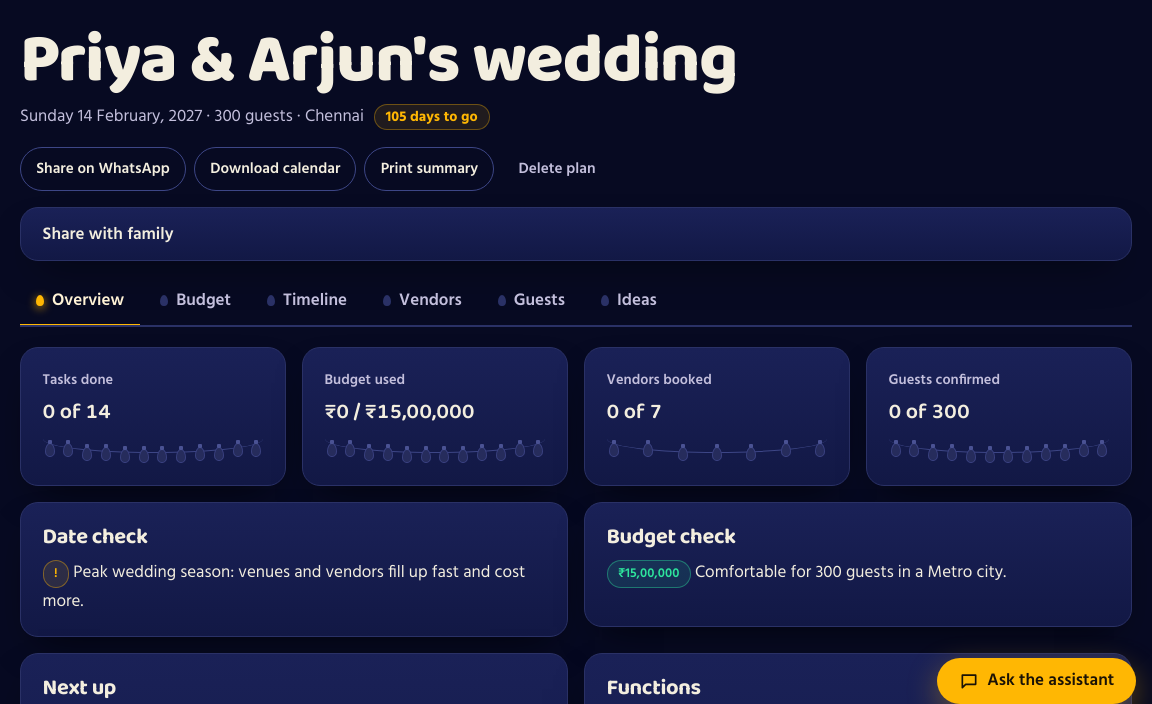
Scenario: Ideas tab › shows a network message when the request cannot be sent
Click the tab "Ideas" at (629,302), box [585, 278, 673, 327]
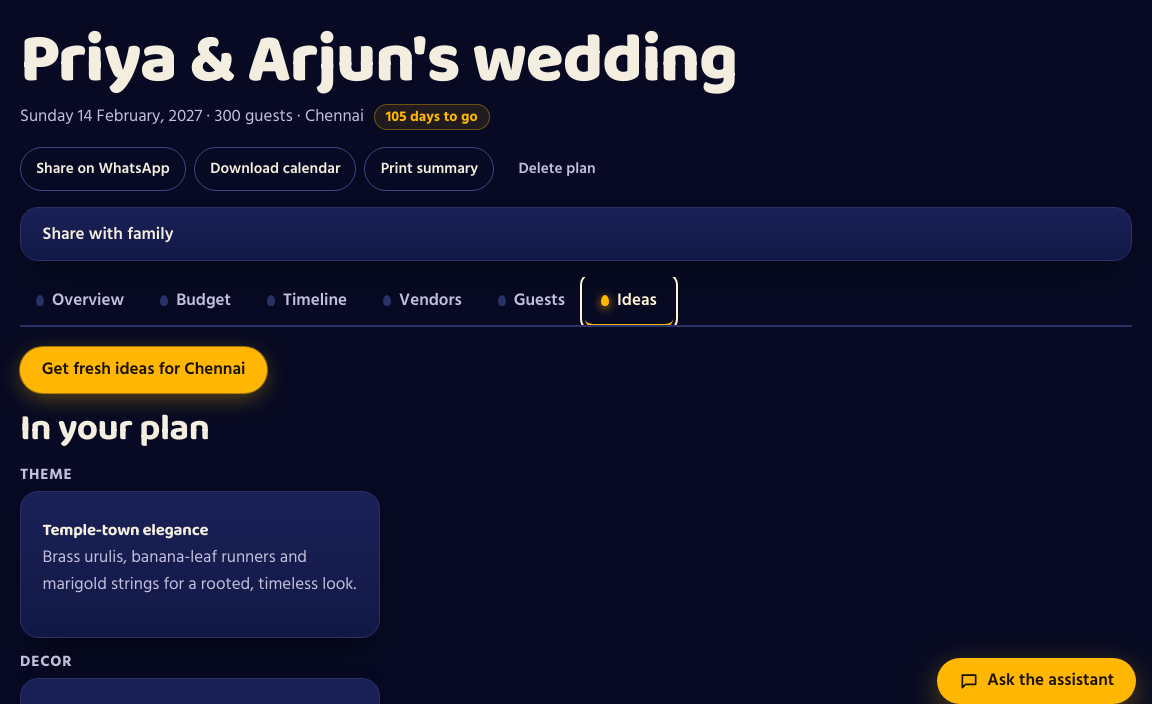
Click the button "Get fresh ideas for Chennai" at (144,370), box [20, 347, 267, 393]
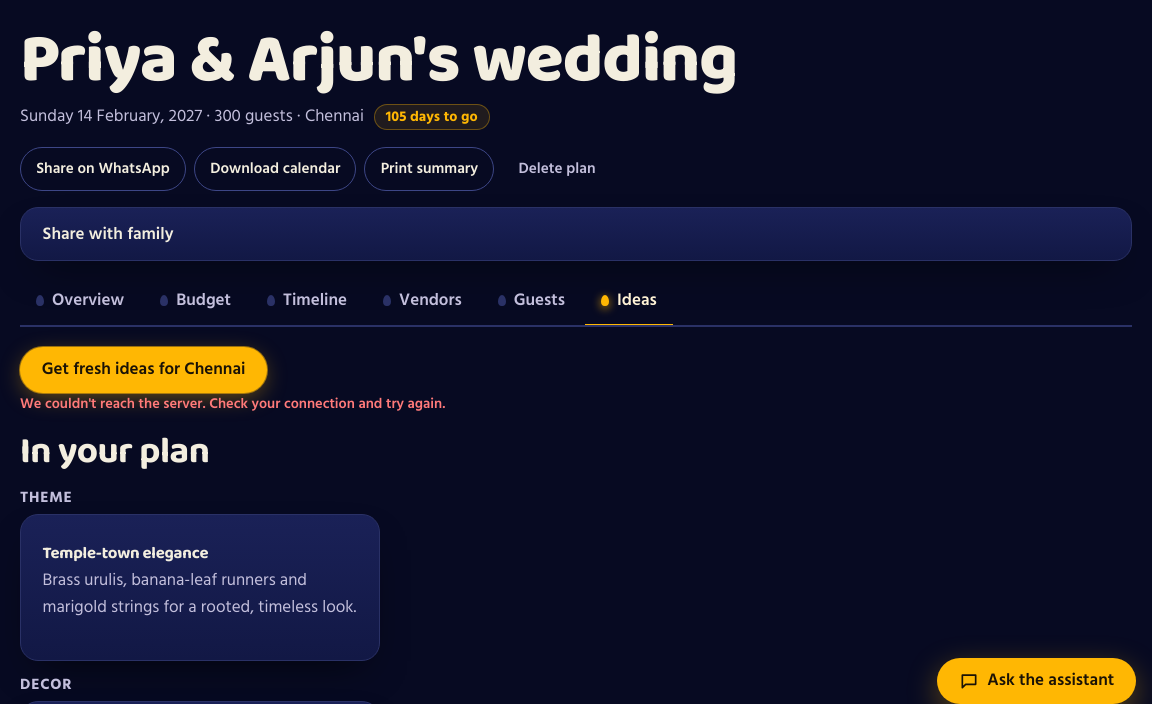
Expected: the message shows "couldn't reach the server", [20, 393, 445, 416]
